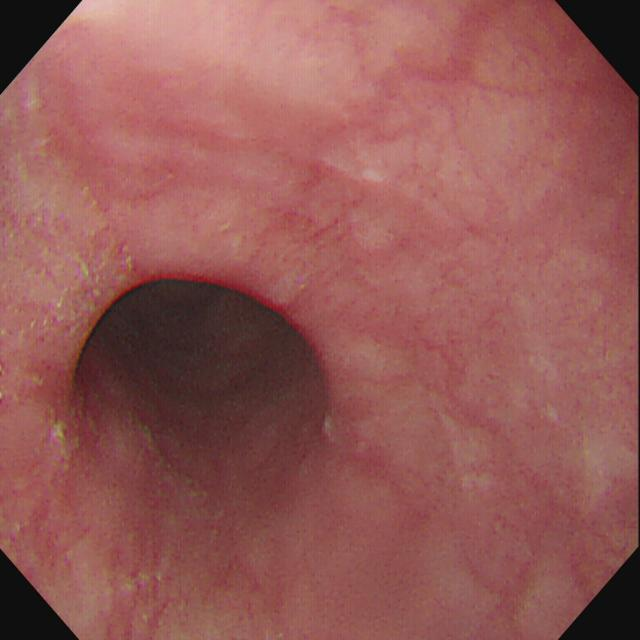A: (104, 525, 171, 640), (267, 206, 355, 253), (21, 495, 75, 571)
E: (72, 263, 330, 450)
J: (2, 69, 137, 323)
